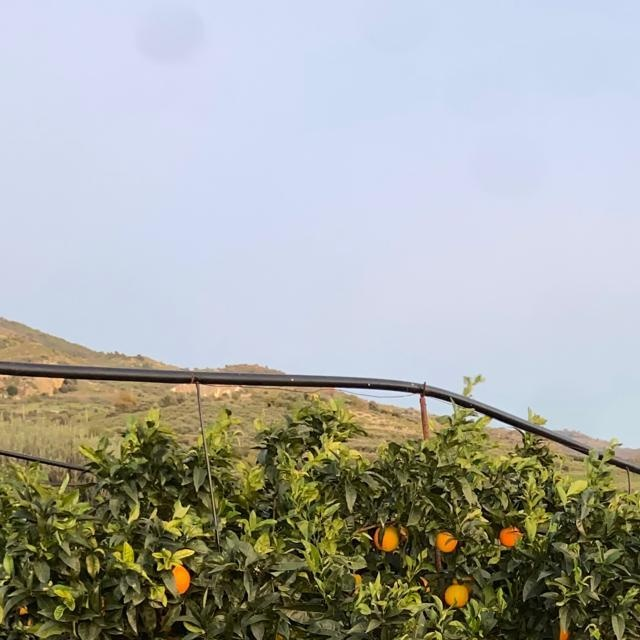orange: (166, 561, 190, 595), (375, 523, 401, 551), (444, 580, 470, 606), (433, 529, 457, 551), (343, 572, 365, 596), (500, 524, 522, 546), (418, 573, 434, 597), (554, 622, 572, 640), (18, 603, 30, 615)
